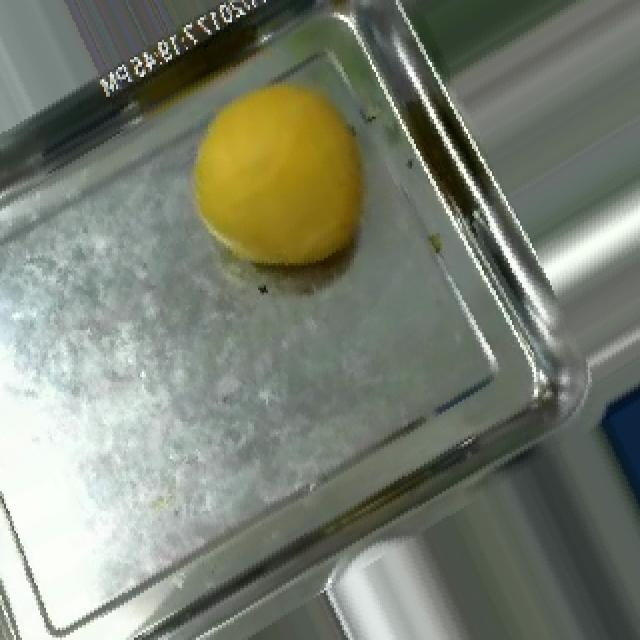fruit: (144, 38, 416, 332)
